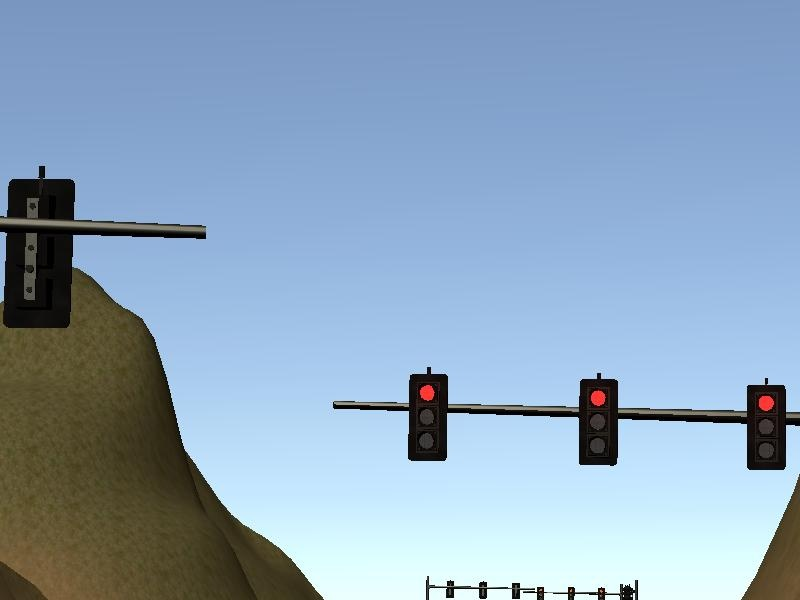RED: (408, 373, 447, 461), (578, 377, 617, 465), (747, 383, 786, 471)
